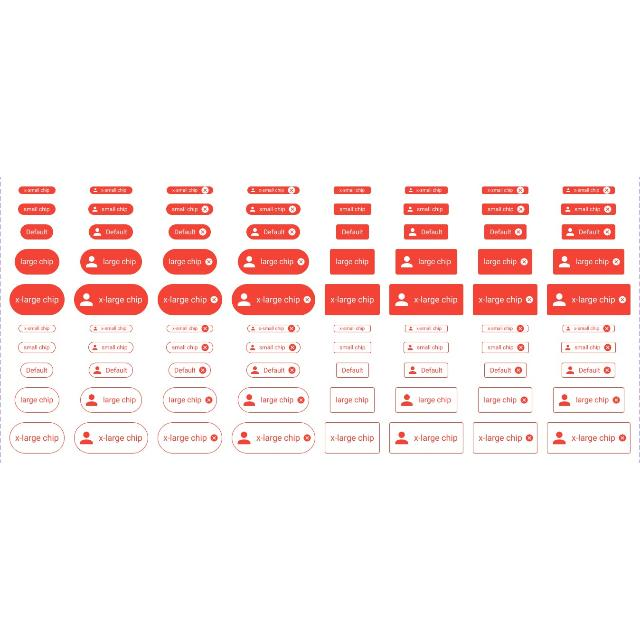QLabel: (15, 295, 59, 305), (98, 434, 142, 444), (256, 434, 300, 444), (256, 296, 300, 306), (330, 434, 374, 444), (414, 434, 458, 444), (414, 296, 458, 306), (478, 295, 522, 305), (478, 434, 522, 444), (164, 434, 206, 444), (572, 434, 614, 444), (98, 296, 142, 304), (163, 296, 207, 304), (331, 296, 374, 304), (16, 435, 58, 443), (572, 296, 614, 304), (18, 259, 54, 267), (102, 397, 136, 405), (168, 258, 202, 266), (168, 397, 202, 405), (260, 397, 294, 405), (260, 258, 294, 266), (418, 397, 452, 405), (418, 258, 452, 266), (21, 258, 54, 266), (21, 397, 54, 405), (104, 258, 136, 266), (336, 258, 368, 266), (336, 397, 368, 405), (484, 258, 516, 266), (484, 397, 516, 405), (576, 397, 608, 405), (576, 258, 608, 266), (338, 345, 366, 351), (416, 207, 444, 213), (491, 228, 512, 236), (23, 207, 49, 213), (24, 326, 50, 332), (102, 345, 128, 351), (172, 326, 198, 332), (172, 345, 198, 351), (259, 345, 285, 351), (259, 207, 285, 213), (339, 326, 365, 332), (417, 345, 443, 351), (416, 326, 442, 332), (487, 206, 513, 212), (488, 345, 514, 351), (574, 345, 600, 351), (574, 326, 600, 332), (575, 207, 601, 213), (260, 326, 284, 332), (488, 326, 512, 332), (106, 229, 128, 235), (174, 229, 196, 235), (174, 368, 196, 374), (263, 368, 285, 374), (342, 368, 364, 374), (421, 368, 443, 374), (421, 229, 443, 235), (579, 229, 601, 235), (27, 229, 48, 235), (27, 368, 48, 374), (105, 368, 126, 374), (342, 229, 363, 235), (491, 368, 512, 374), (264, 229, 284, 235), (580, 368, 600, 374), (24, 188, 50, 192), (24, 346, 50, 350), (100, 327, 126, 331), (102, 208, 128, 212), (101, 189, 127, 193), (172, 189, 198, 193), (172, 208, 198, 212), (258, 188, 284, 192), (340, 208, 366, 212), (416, 188, 442, 192), (487, 188, 513, 192), (574, 188, 600, 192), (340, 188, 364, 192)
VChip: (232, 422, 316, 454), (232, 284, 316, 316), (547, 423, 631, 455), (547, 284, 631, 316), (74, 423, 148, 455), (74, 284, 148, 316), (389, 423, 463, 455), (389, 284, 463, 316), (158, 284, 222, 316), (473, 284, 537, 316), (158, 422, 222, 453), (472, 424, 538, 454), (238, 388, 310, 414), (238, 249, 308, 275), (554, 388, 624, 414), (554, 249, 624, 275), (324, 284, 380, 316), (10, 284, 64, 316), (10, 423, 64, 455), (324, 424, 380, 454), (80, 388, 142, 414), (80, 249, 142, 275), (395, 388, 457, 414), (395, 249, 457, 275), (163, 249, 217, 275), (163, 388, 217, 414), (478, 249, 532, 275), (478, 388, 532, 414), (15, 388, 60, 414), (15, 249, 59, 275), (330, 249, 374, 275), (330, 388, 374, 414), (562, 224, 616, 240), (247, 224, 300, 240), (246, 364, 300, 378), (561, 364, 615, 378), (89, 224, 133, 240), (404, 363, 448, 379), (404, 224, 448, 240), (169, 224, 211, 240), (484, 224, 526, 240), (560, 203, 616, 215), (246, 203, 300, 215), (562, 342, 616, 354), (89, 364, 133, 378), (246, 342, 300, 353), (169, 364, 211, 378), (484, 364, 526, 378), (166, 203, 214, 215), (166, 342, 214, 354), (88, 342, 134, 354), (88, 203, 134, 215), (482, 342, 528, 354), (21, 224, 54, 240), (404, 342, 448, 354), (336, 224, 368, 240), (482, 203, 528, 214), (404, 203, 448, 214), (333, 203, 371, 215), (21, 364, 53, 378), (336, 364, 368, 378), (334, 342, 371, 354), (18, 203, 56, 214), (18, 342, 56, 353), (247, 325, 299, 333), (247, 186, 299, 194), (563, 325, 615, 333), (563, 186, 615, 194), (167, 186, 213, 194), (167, 325, 213, 333), (482, 186, 528, 194), (482, 325, 528, 333), (404, 325, 448, 333), (404, 186, 448, 194), (90, 325, 132, 333), (90, 186, 132, 194), (18, 325, 56, 333), (334, 186, 371, 194), (334, 325, 371, 333), (19, 186, 55, 194)
VIcon: (80, 432, 94, 446), (552, 293, 566, 307), (553, 432, 567, 446), (80, 294, 94, 306), (237, 294, 251, 306), (238, 432, 250, 446), (396, 293, 408, 307), (396, 432, 408, 446), (86, 256, 98, 268), (86, 395, 98, 407), (243, 256, 255, 268), (401, 256, 413, 268), (401, 395, 413, 407), (559, 395, 571, 407), (243, 396, 255, 406), (560, 256, 570, 268), (93, 228, 101, 236), (93, 367, 101, 375), (205, 397, 213, 405), (210, 296, 218, 304), (205, 258, 213, 266), (251, 228, 259, 236), (288, 228, 296, 236), (297, 258, 305, 266), (303, 296, 311, 304), (288, 344, 296, 352), (251, 367, 259, 375), (409, 228, 417, 236), (409, 367, 417, 375), (520, 397, 528, 405), (517, 344, 525, 352), (525, 296, 533, 304), (520, 258, 528, 266), (566, 228, 574, 236), (604, 228, 612, 236), (612, 258, 620, 266), (618, 296, 626, 304), (604, 344, 612, 352), (566, 367, 574, 375), (612, 397, 620, 405), (200, 367, 207, 375), (200, 228, 207, 236), (288, 205, 296, 212), (604, 205, 612, 212), (210, 436, 218, 442), (202, 344, 208, 352), (288, 187, 296, 193), (288, 368, 296, 374), (298, 396, 304, 404), (515, 368, 523, 374), (516, 326, 524, 332), (516, 228, 522, 236), (516, 187, 524, 193), (604, 186, 610, 194), (603, 368, 611, 374), (202, 205, 208, 212), (518, 205, 524, 212), (92, 206, 98, 212), (92, 345, 98, 351), (202, 326, 208, 332), (202, 187, 208, 193), (250, 206, 256, 212), (288, 326, 294, 332), (304, 436, 310, 442), (407, 206, 413, 212), (407, 345, 413, 351), (526, 436, 532, 442), (565, 206, 571, 212), (604, 326, 610, 332), (620, 436, 626, 442), (250, 346, 256, 350), (565, 346, 571, 350), (93, 188, 97, 192), (93, 327, 97, 331), (251, 188, 255, 192), (251, 327, 255, 331), (409, 188, 413, 192), (409, 327, 413, 331), (566, 188, 570, 192), (566, 327, 570, 331)
